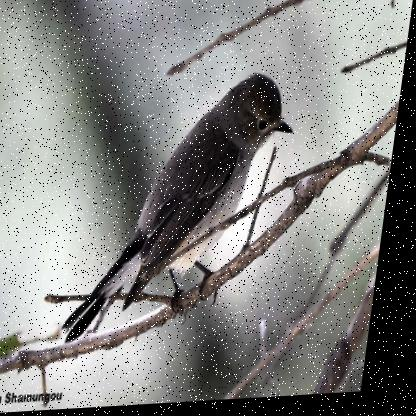Burung: (55, 76, 308, 347)
